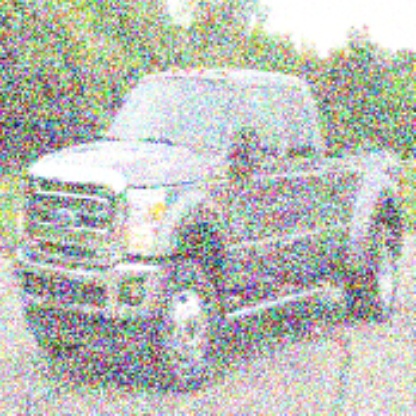Vehicle: (13, 64, 405, 392)
